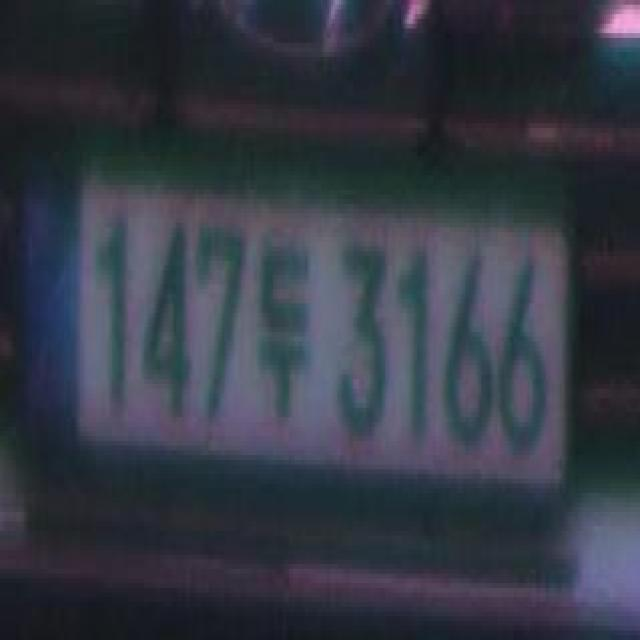illegal_plate: (1, 117, 585, 546)
